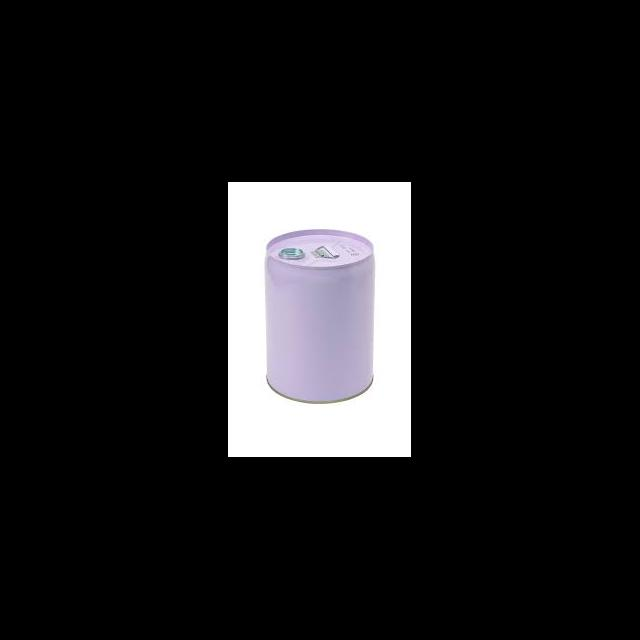metal: (266, 230, 374, 404)
